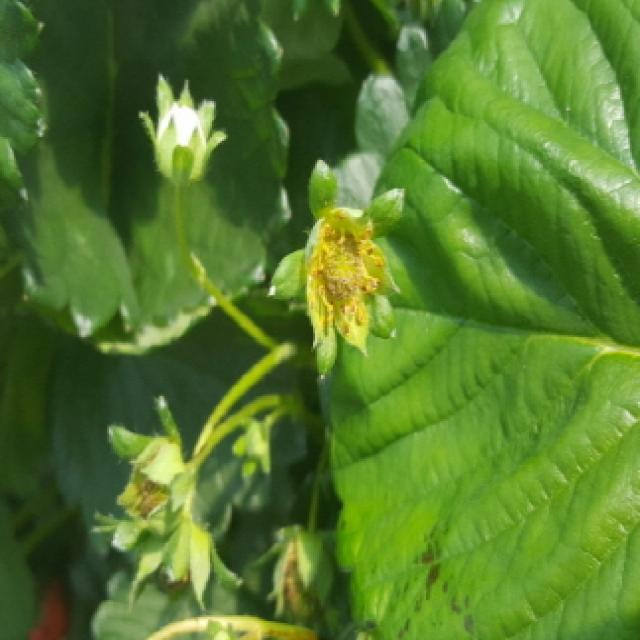Blossom Blight: (300, 207, 394, 346)
